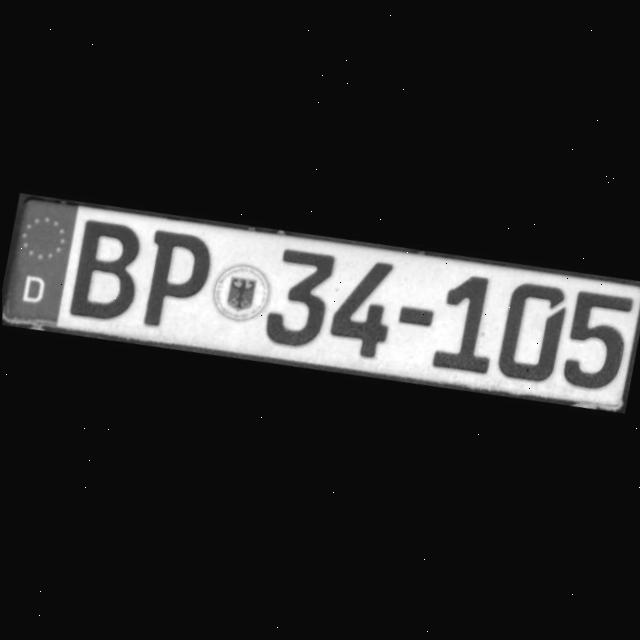license-plates: (2, 198, 640, 411)
